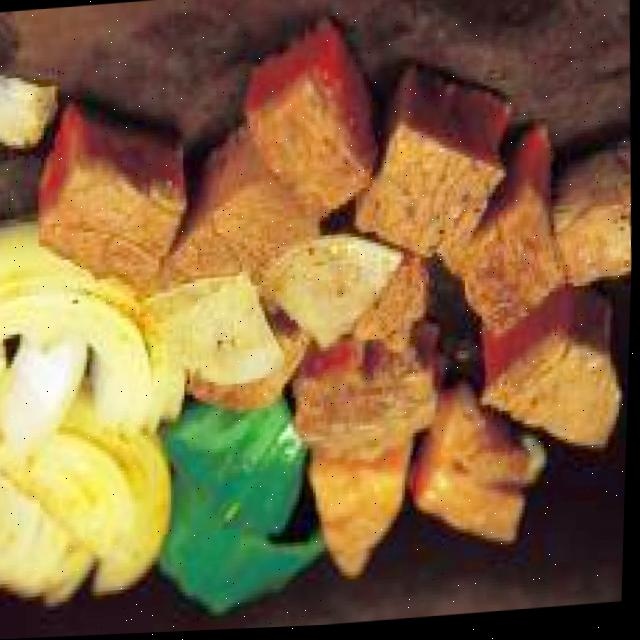牛肉菜式: (28, 4, 639, 636)
